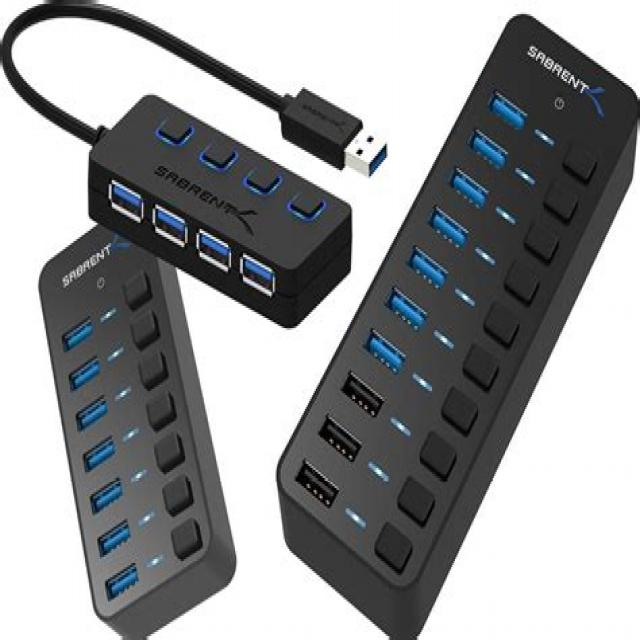usb port: (294, 454, 336, 508), (343, 365, 379, 419), (321, 407, 355, 462), (104, 176, 142, 223), (238, 251, 274, 296), (152, 201, 186, 247), (390, 278, 421, 328), (490, 87, 524, 132), (196, 227, 230, 271), (452, 160, 482, 209), (470, 126, 508, 162), (412, 241, 441, 288), (57, 314, 97, 348), (100, 559, 140, 593), (370, 330, 400, 375), (434, 207, 463, 243), (81, 437, 119, 464), (96, 522, 130, 549), (85, 482, 123, 506), (66, 362, 103, 385), (73, 401, 108, 423)
